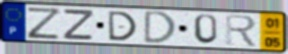0: (191, 14, 219, 46)
D: (142, 10, 178, 45), (107, 10, 139, 42)
R: (223, 13, 259, 49)
Z: (26, 6, 64, 41), (61, 9, 96, 42)
